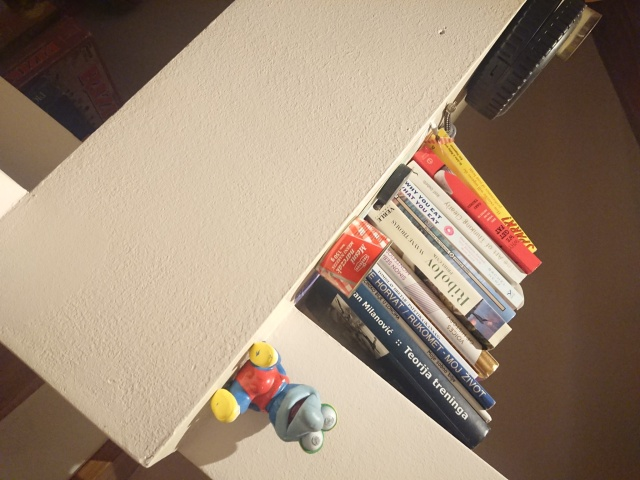Podravka Luncheon Meat 150g: (313, 213, 394, 300)
